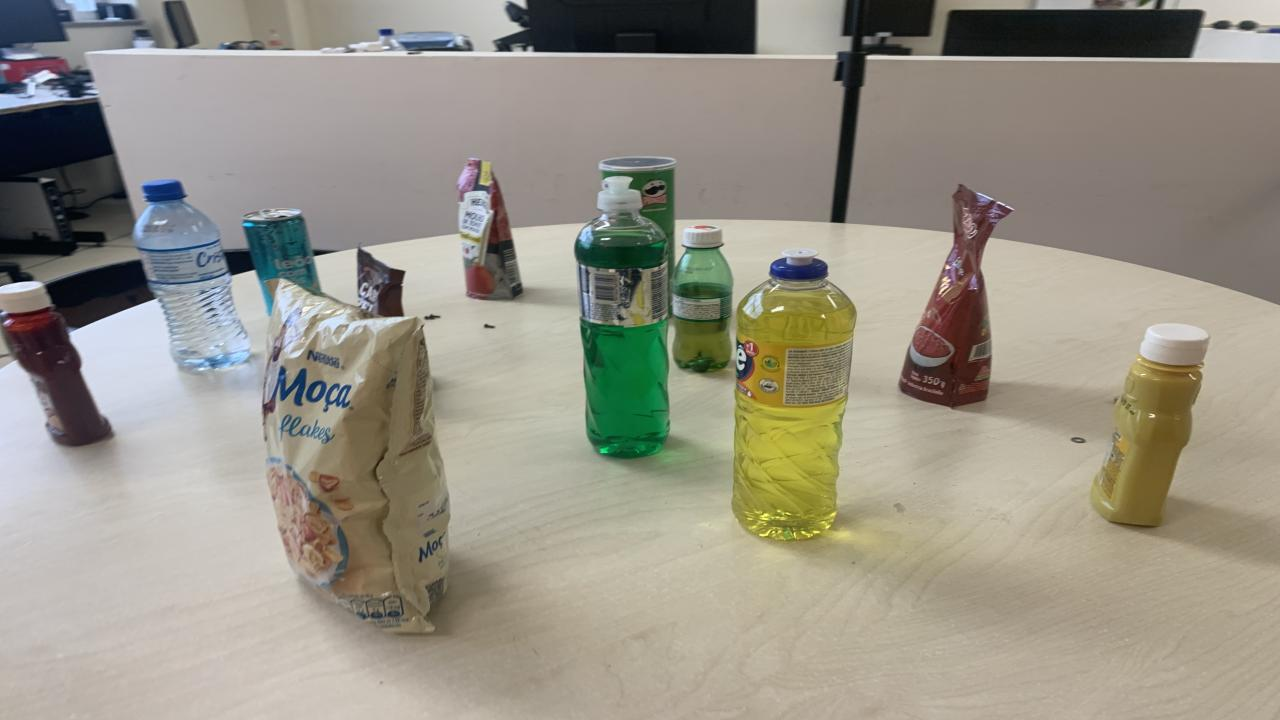Coffee-Pantry_Items: (358, 248, 405, 317)
Detergent-Cleanup_Items: (732, 249, 858, 540), (575, 176, 670, 458)
Flakes-Snacks: (262, 281, 450, 634)
Guarana-Drinks: (672, 225, 732, 373)
Ketchup-Pantry_Items: (2, 308, 112, 446)
Mustard-Pantry_Items: (1090, 322, 1210, 527)
Pringles-Snacks: (598, 156, 675, 270)
Tea-Drinks: (242, 208, 320, 313)
Tomato_Sauce-Pantry_Items: (900, 186, 1012, 407), (458, 158, 522, 300)
Water_Bottle-Drinks: (132, 180, 250, 371)
